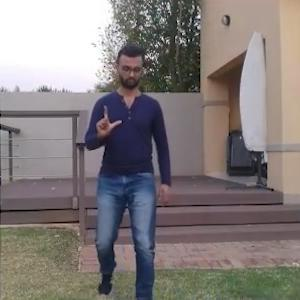land_hand: (92, 99, 124, 142)
